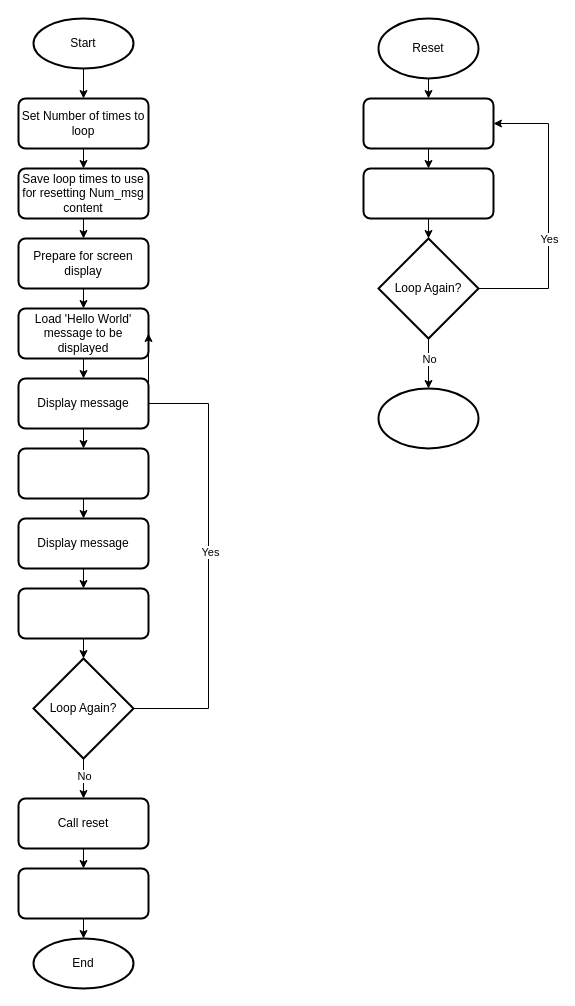
Some shapes in this 575 by 1006 pixel diagram are drawn without their labels. Here are the shapes that lost their labels. From the top down, the centre of each, then its label:
[428,123]: Decrease Num_msg content by 1 byte
[428,193]: Decrease saved loop count by 1
[428,418]: Return
[83,473]: Load Number to be displayed
[83,613]: Move to next Number to be displayed
[83,893]: End Program
